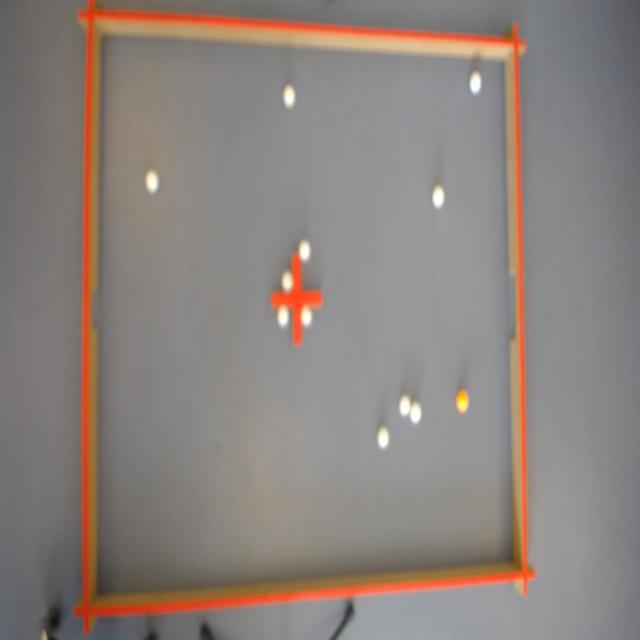orange-golf-balls: (457, 389, 470, 412)
white-golf-balls: (145, 168, 159, 193), (470, 68, 483, 93), (432, 183, 445, 208), (283, 83, 296, 107), (377, 426, 390, 449), (298, 238, 311, 260), (399, 394, 411, 416), (410, 401, 422, 423), (281, 270, 293, 291), (277, 306, 289, 327), (301, 305, 312, 326)
